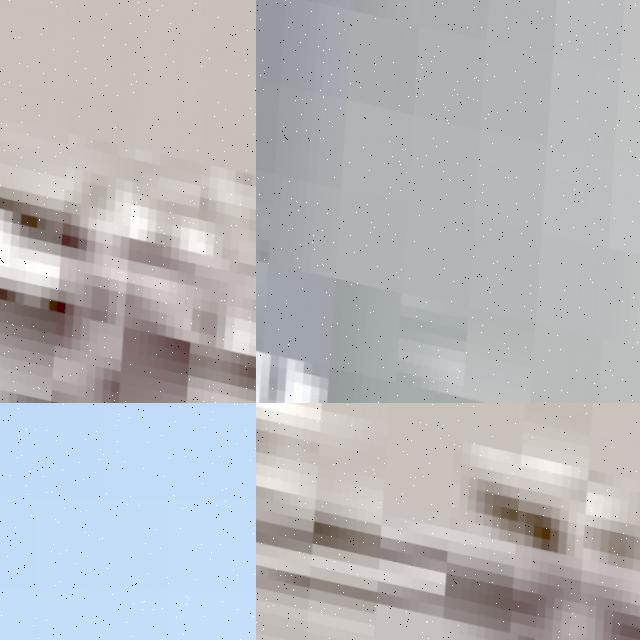drone: (256, 0, 640, 403), (0, 0, 256, 403), (256, 403, 640, 640)
